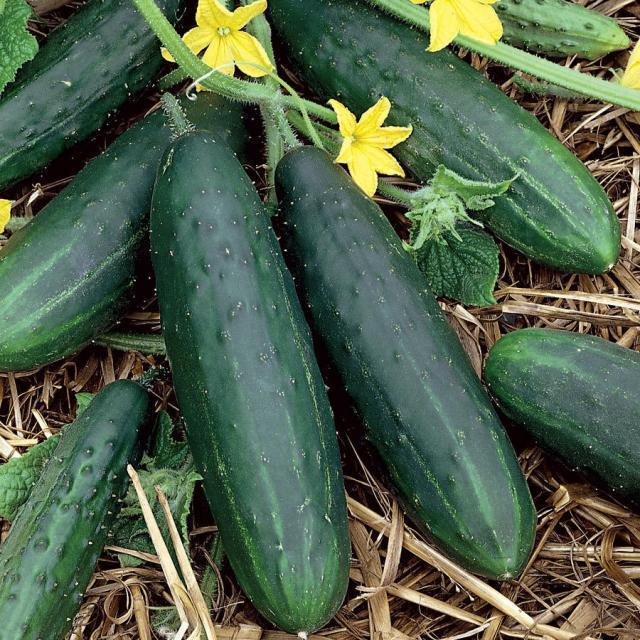Cucumber: (277, 150, 535, 580), (148, 124, 346, 630)
